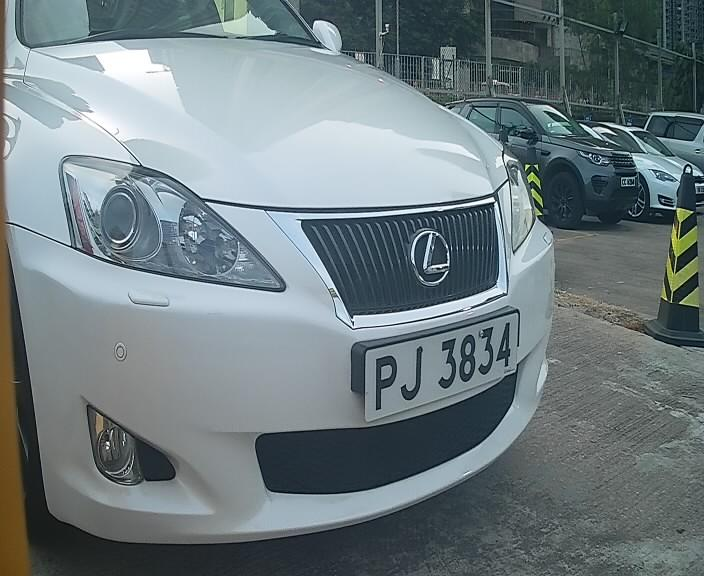Car: (4, 11, 610, 566)
License Plate: (353, 304, 516, 427)
